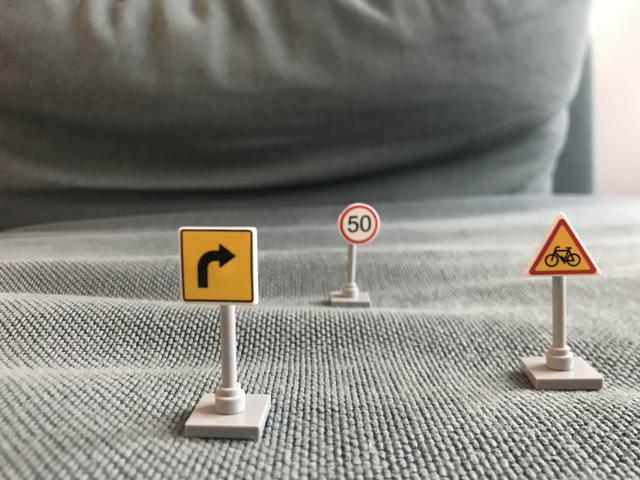fahrtrichtung rechts: (174, 223, 264, 306)
radfahrer: (523, 213, 602, 283)
tempolimit 50: (336, 200, 382, 244)
